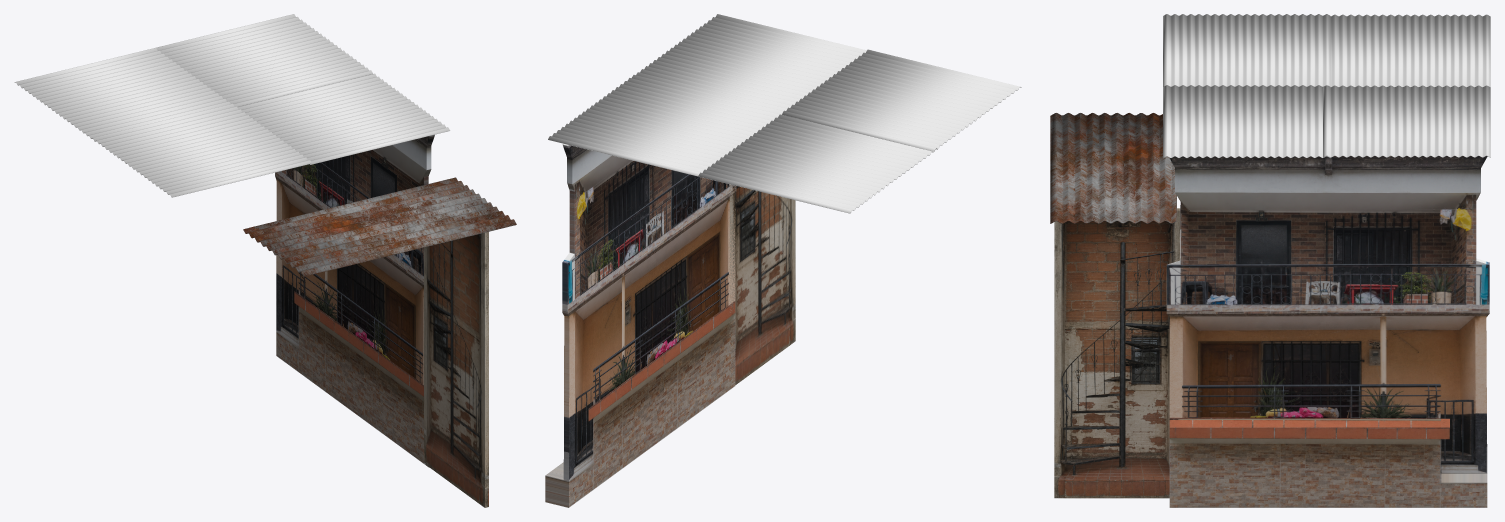
The model's file is casa_2_derecha_03.fbx.
3 renders of one model, left to right at view 1: azimuth 30°, elevation 25°; view 2: azimuth 150°, elevation 25°; view 3: azimuth 270°, elevation 25°, orthographic. The views are drawn at different scales.
Parts seen in each view (by area): view 1: Techo_9.001, casa_camino2_derecha_03.001, casa_camino2_derecha_03A.001, Techo_03; view 2: Techo_9.001, casa_camino2_derecha_03.001, casa_camino2_derecha_03A.001; view 3: casa_camino2_derecha_03.001, Techo_9.001, casa_camino2_derecha_03A.001, Techo_03.
Boxes of the visible parts, x1,y1,x2,y2 form: Techo_9.001: (14, 14, 449, 197); casa_camino2_derecha_03.001: (275, 134, 434, 467); casa_camino2_derecha_03A.001: (424, 232, 488, 507); Techo_03: (243, 177, 516, 276); Techo_9.001: (548, 14, 1021, 213); casa_camino2_derecha_03.001: (545, 144, 736, 507); casa_camino2_derecha_03A.001: (729, 184, 795, 387); casa_camino2_derecha_03.001: (1166, 156, 1489, 507); Techo_9.001: (1163, 14, 1490, 158); casa_camino2_derecha_03A.001: (1054, 208, 1180, 498); Techo_03: (1050, 113, 1176, 223).
Size of the model in its own units: 525 by 584 by 664.
